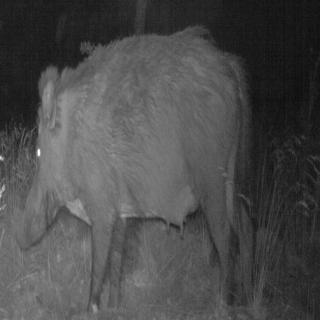Pig: (20, 20, 279, 320)
